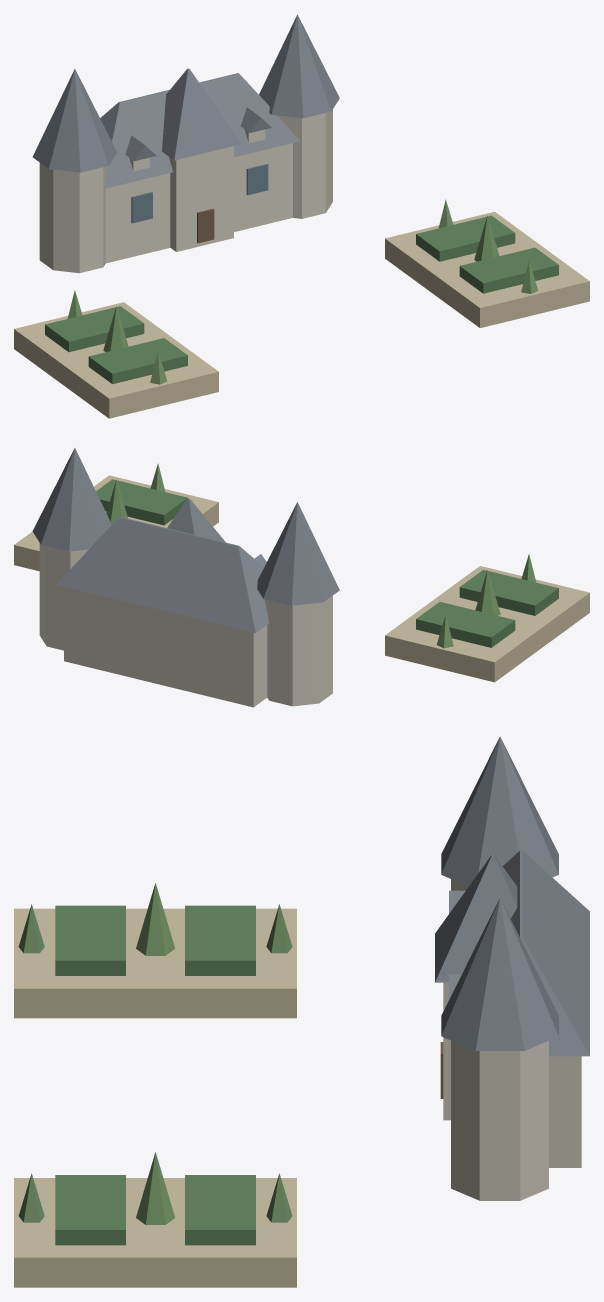
Rendered from chateau.glb.
3 renders of one model, top to bottom at view 1: azimuth 30°, elevation 25°; view 2: azimuth 150°, elevation 25°; view 3: azimuth 270°, elevation 25°, orthographic. The views are drawn at different scales.
Parts seen in each view (by area): view 1: LOD0; view 2: LOD0; view 3: LOD0.
Boxes of the visible parts, <box> form: LOD0: <box>14,14,589,418</box>; LOD0: <box>14,448,589,707</box>; LOD0: <box>14,736,589,1287</box>.
Size of what is drawn, in the model's own units: 1.4 by 0.554 by 0.9764.
